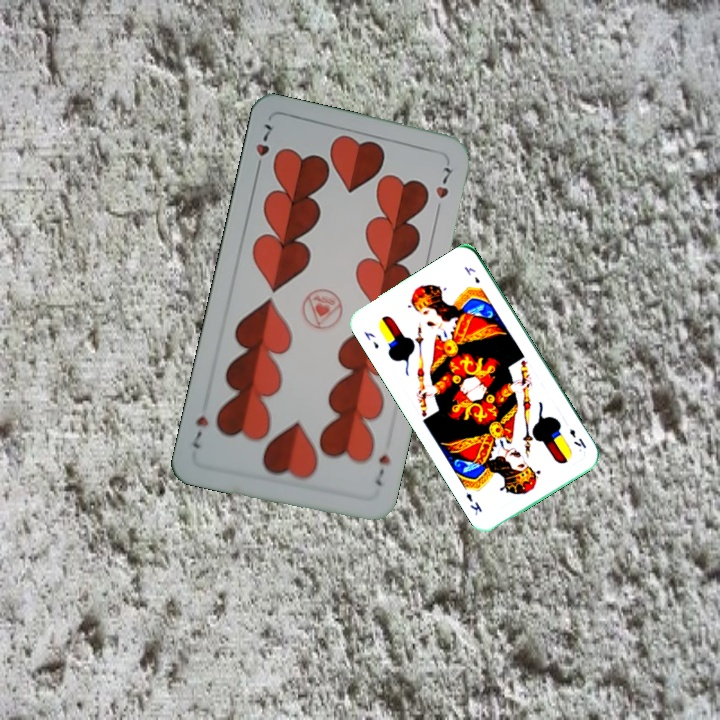EK: (565, 425, 589, 451), (360, 327, 381, 351)
H7: (251, 119, 275, 176), (370, 450, 393, 489)
